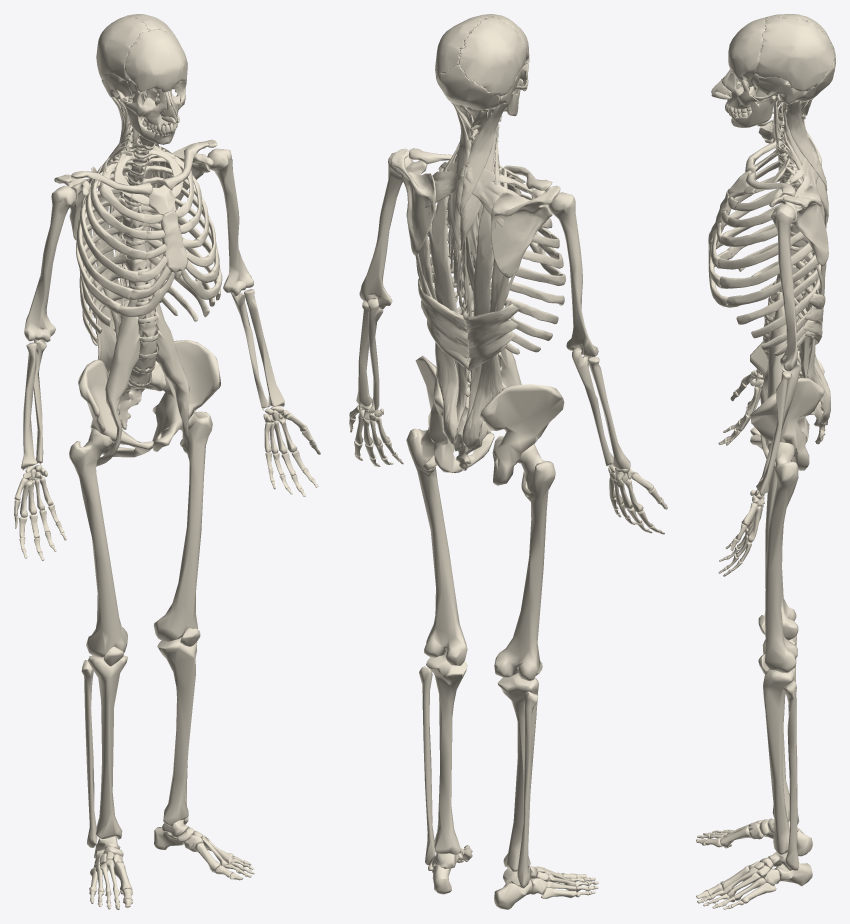
Rendered from skeletal.glb.
3 renders of one model, left to right at view 1: azimuth 30°, elevation 25°; view 2: azimuth 150°, elevation 25°; view 3: azimuth 270°, elevation 25°, orthographic. The views are drawn at different scales.
Parts seen in each view (by area): view 1: FJ3365, FJ3259, FJ3282, FJ3288, FJ3200, FJ3387, FJ3368, FJ1431, FJ3152, FJ3262, FJ3380, FJ1431M (+20 smaller); view 2: FJ3365, FJ3259, FJ3152, FJ3380, FJ3384, FJ3282, FJ3387, FJ3368, FJ1535M, FJ3279, FJ3288, FJ3262 (+21 smaller); view 3: FJ3259, FJ3274, FJ3282, FJ3288, FJ3262, FJ3279, FJ3260, FJ3200, FJ1431M, FJ3277, FJ1545M, FJ3365 (+28 smaller).
Part boxes in pixels (x1,y1,x2,y2): FJ3365: (69,429,127,657); FJ3259: (153,411,212,641); FJ3282: (157,637,196,826); FJ3288: (152,340,220,451); FJ3200: (125,29,187,93); FJ3387: (88,655,127,839); FJ3368: (24,185,76,342); FJ1431: (96,300,140,466); FJ3152: (78,360,153,457); FJ3262: (207,148,253,296); FJ3380: (96,15,149,81); FJ1431M: (154,303,189,446); FJ3365: (494,444,555,681); FJ3259: (406,427,467,665); FJ3152: (480,384,564,485); FJ3380: (458,16,526,96); FJ3384: (491,185,560,277); FJ3282: (426,655,467,854); FJ3387: (497,673,538,871); FJ3368: (549,192,598,357); FJ1535M: (428,156,469,424); FJ3279: (391,148,435,255); FJ3288: (415,355,494,473); FJ3262: (359,152,413,309); FJ3259: (765,442,798,672); FJ3274: (754,17,834,91); FJ3282: (763,668,794,855); FJ3288: (750,377,824,470); FJ3262: (771,204,797,371); FJ3279: (769,184,828,266); FJ3260: (783,680,799,870); FJ3200: (728,17,766,80); FJ1431M: (760,292,786,468); FJ3277: (756,371,791,496); FJ1545M: (786,100,827,191); FJ3365: (764,468,798,640).
Bounding box in the file's own units: 0.6478 × 1.71 × 0.2539.
